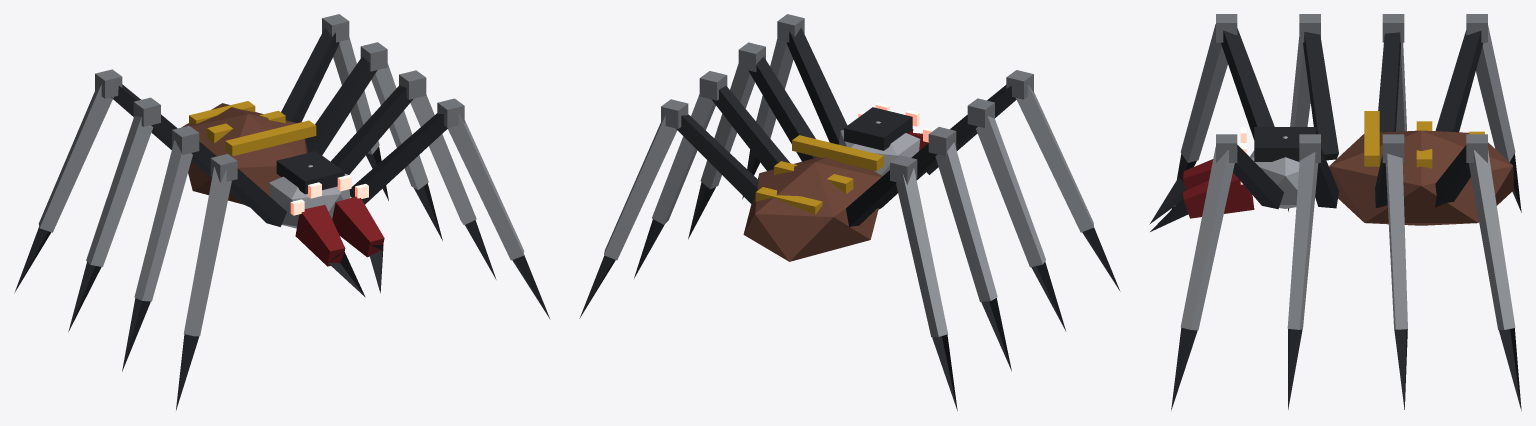
Rendered from spider.glb.
The picture shows the model from 3 angles, left to right: view 1: azimuth 30°, elevation 25°; view 2: azimuth 150°, elevation 25°; view 3: azimuth 270°, elevation 25°; orthographic projection. The views are drawn at different scales.
Parts seen in each view (by area): view 1: DSpiderHull, DSpiderGlow; view 2: DSpiderHull; view 3: DSpiderHull.
Boxes of the visible parts, x1,y1,x2,y2 form: DSpiderHull: (14, 14, 550, 410); DSpiderGlow: (290, 175, 368, 215); DSpiderHull: (579, 14, 1120, 410); DSpiderHull: (1149, 14, 1521, 410).
Bounding box in the file's own units: 1.52 × 0.835 × 1.2.
